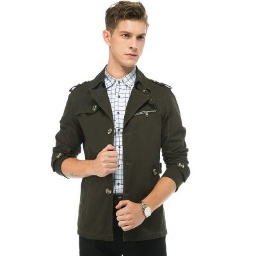face: (103, 1, 149, 72)
